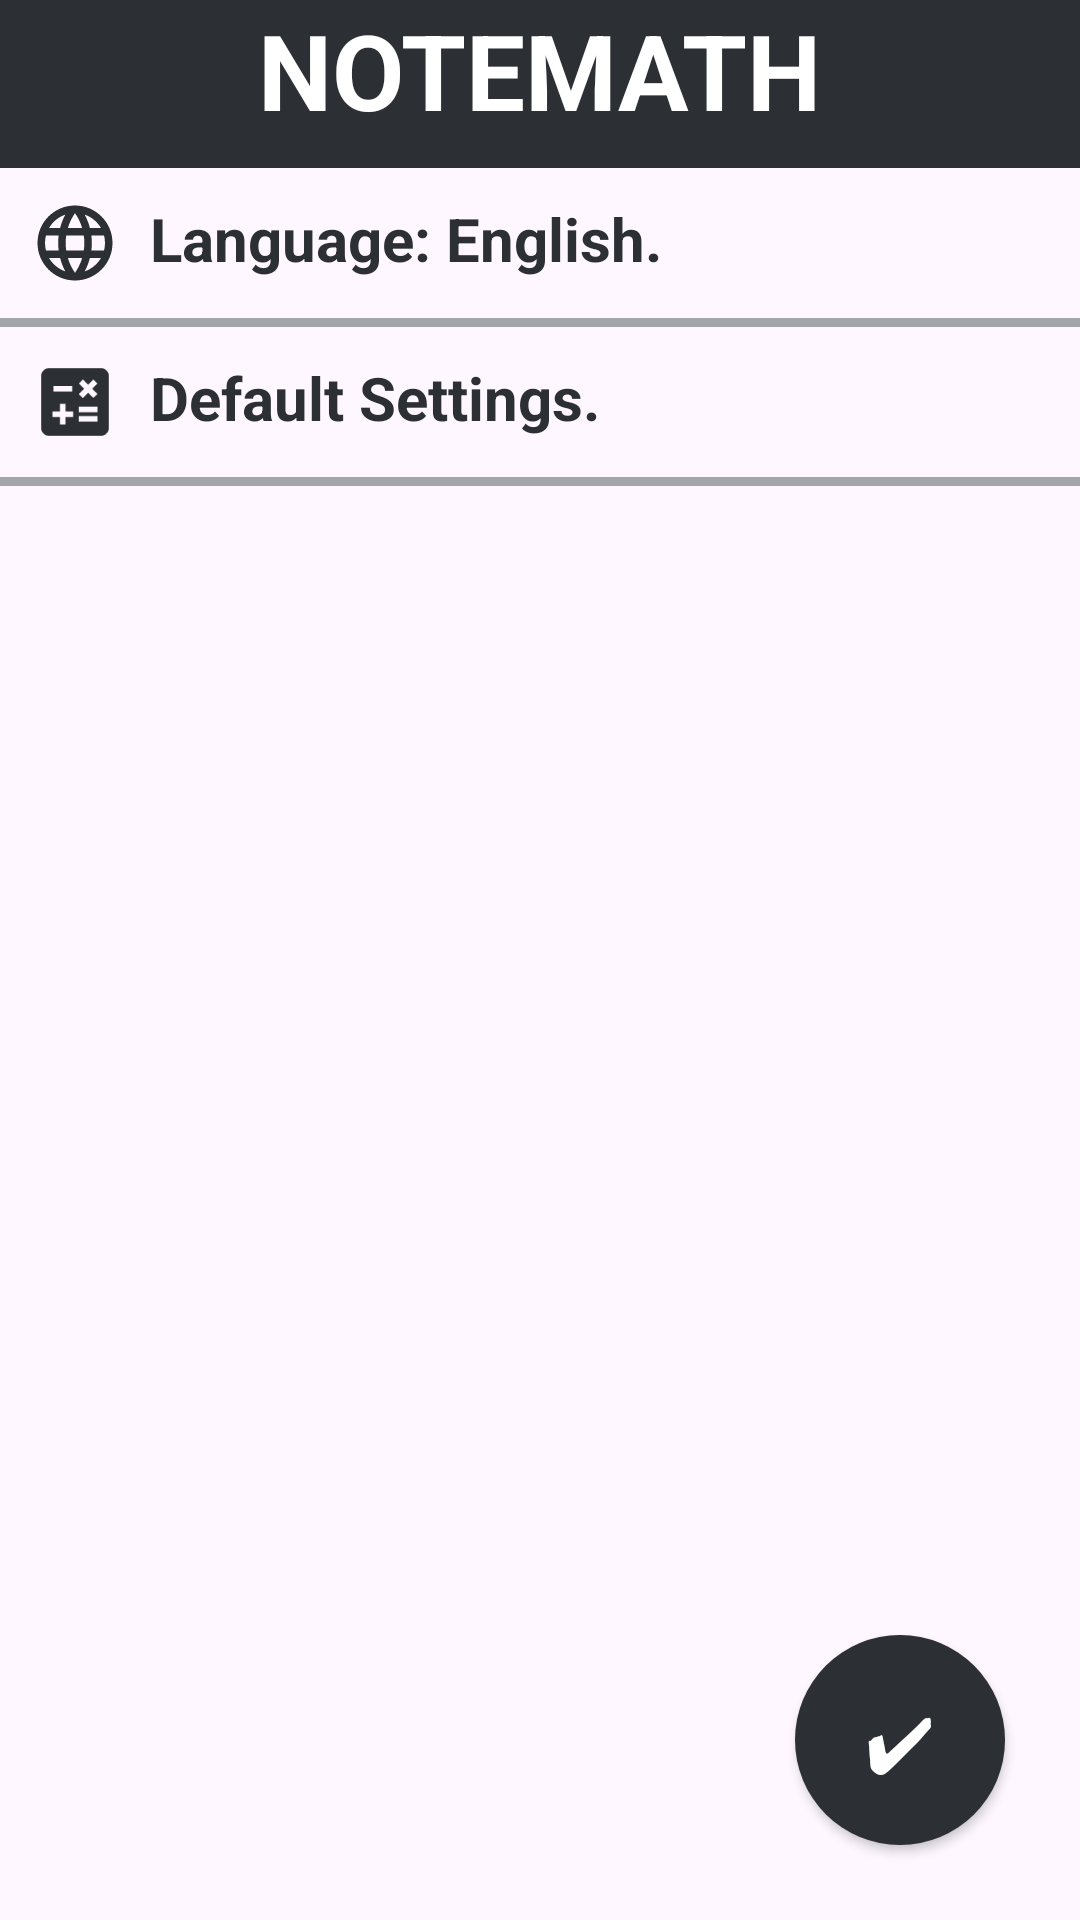

Where icons sit on this 1080*1920 app screen, as (x1, y1, x2, y2):
calculator: (41, 368, 109, 436)
